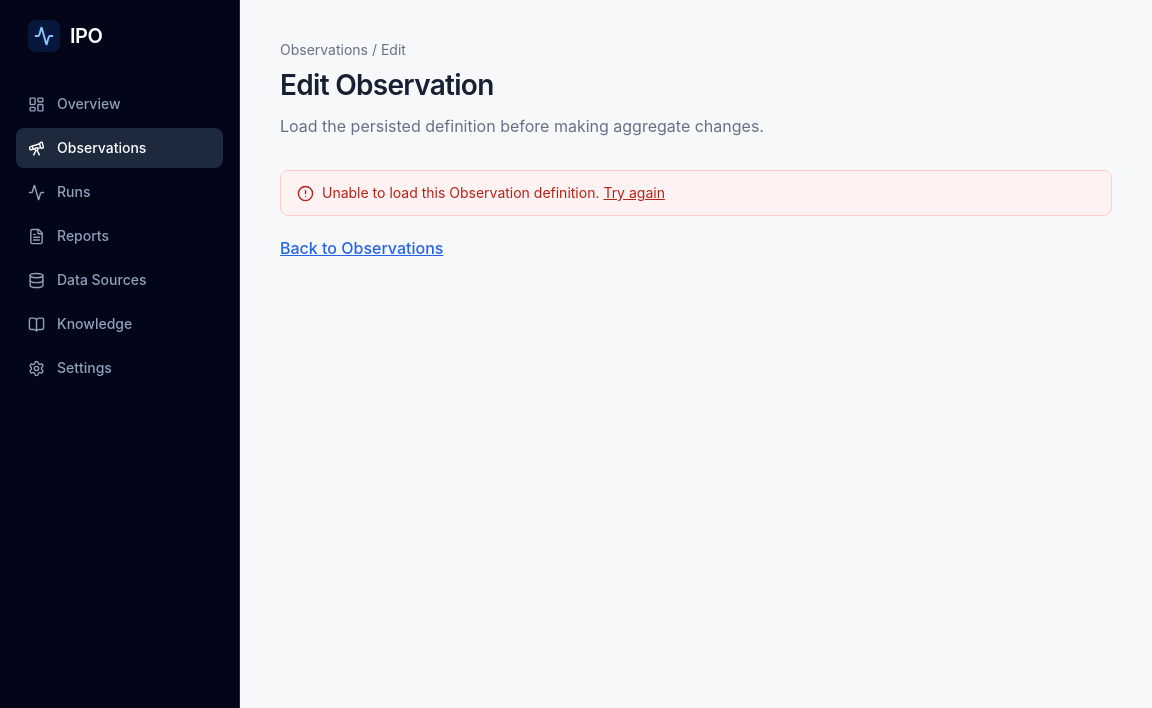
Test: Observation aggregate editing › retries a non-not-found edit load failure and maps a PUT field error while retaining the draft
Click the button "Try again": x=634, y=193 [603, 183, 665, 203]
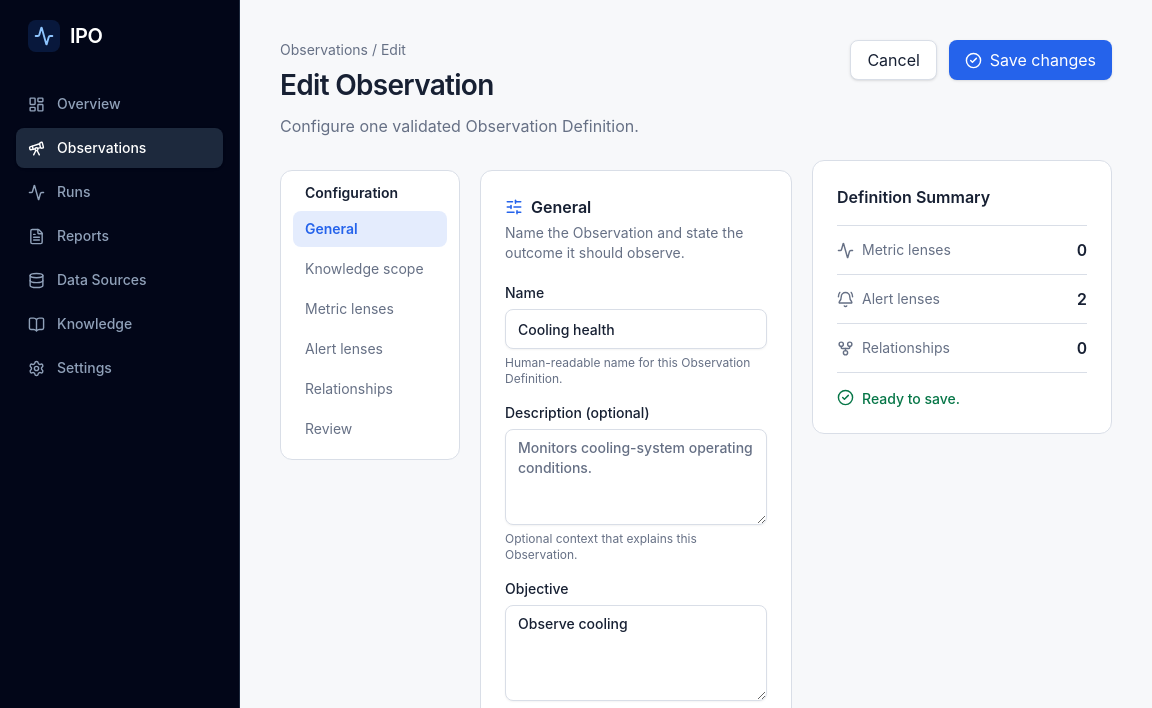
Expected: the field labelled "Name" is shown, [505, 309, 767, 349]
Click the button "Save changes": x=1030, y=60 [949, 40, 1112, 80]
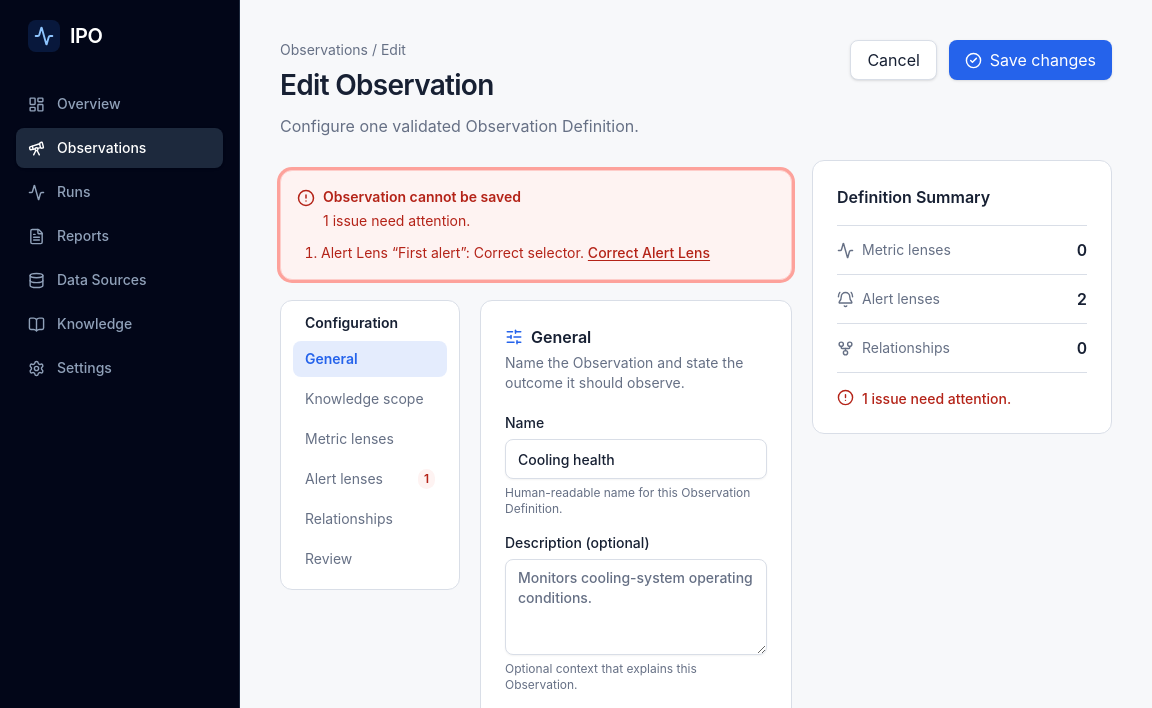
Expected: the field labelled "Name" holds "Cooling health", [505, 439, 767, 479]
Expected: the list item "Correct selector" is shown, [321, 244, 584, 261]
